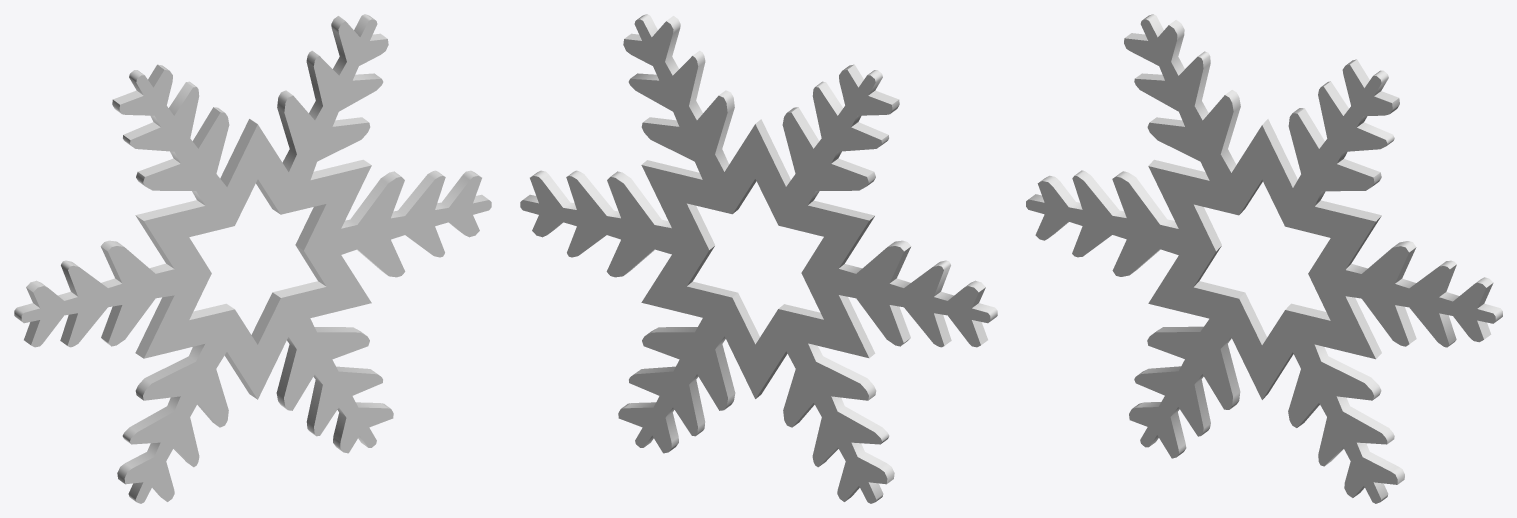
Rendered from Snowflake_02.fbx.
3 views of the same model, side by side, from view 1: azimuth 30°, elevation 25°; view 2: azimuth 150°, elevation 25°; view 3: azimuth 330°, elevation 25° (orthographic).
Visible parts, largest first — view 1: Snowflake_02; view 2: Snowflake_02; view 3: Snowflake_02.
Boxes of the visible parts, left/top/right/bottom form: Snowflake_02: left=14, top=14, right=491, bottom=503; Snowflake_02: left=520, top=14, right=997, bottom=503; Snowflake_02: left=1026, top=14, right=1502, bottom=503.
Size of the model in its own units: 0.2723 by 0.2424 by 0.00728.
